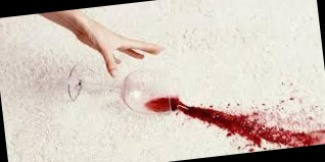wine: (157, 74, 325, 160)
